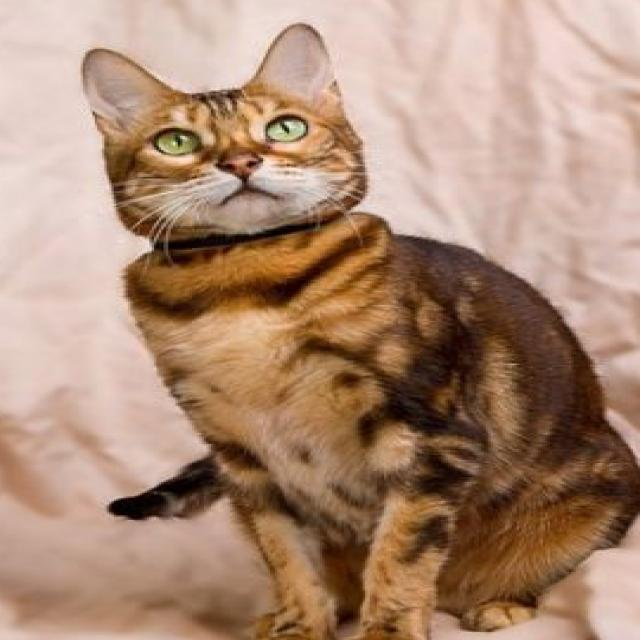Bengal: (71, 17, 640, 640)
